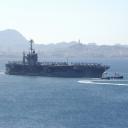Portanaves: (5, 38, 112, 80)
